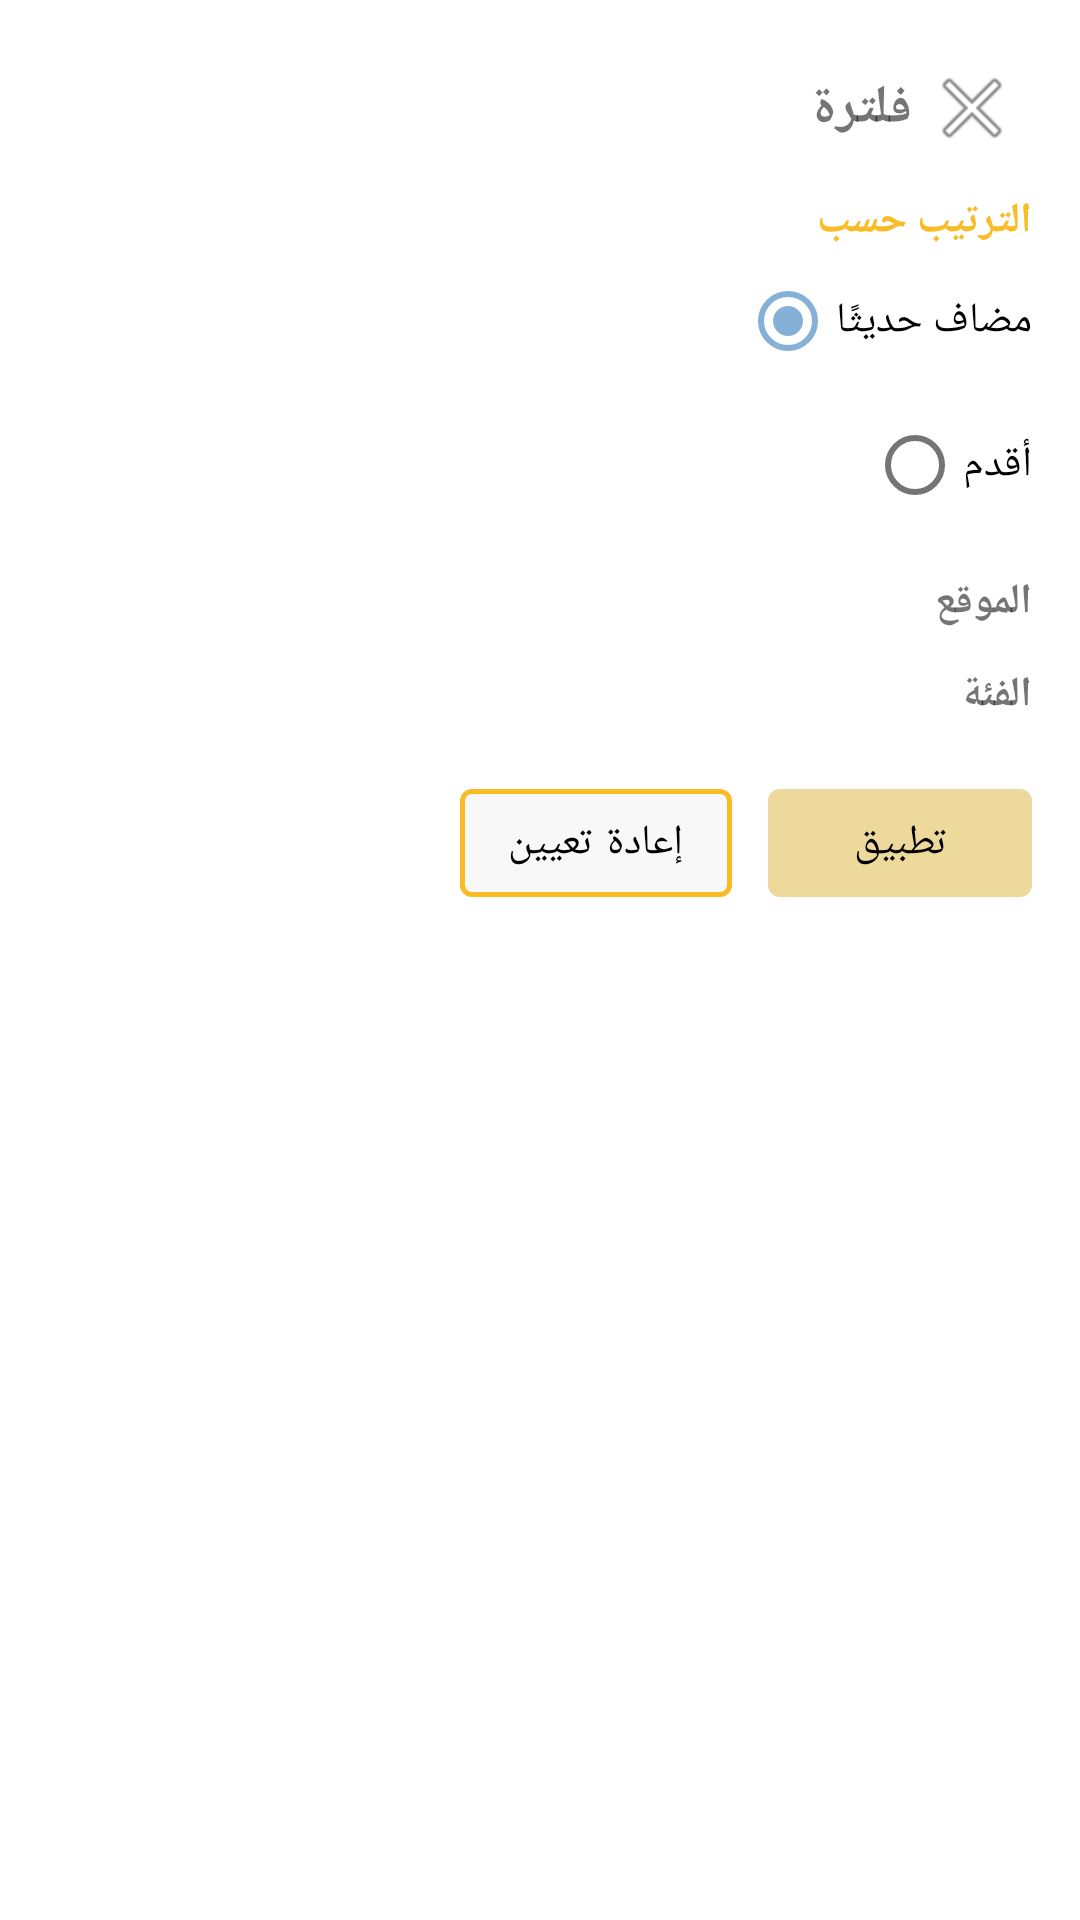

Icons on this 1080*1920 Android screen, each with its box as bbox(x1, y1, x2, y2):
إغلاق: bbox(942, 78, 1002, 138)
